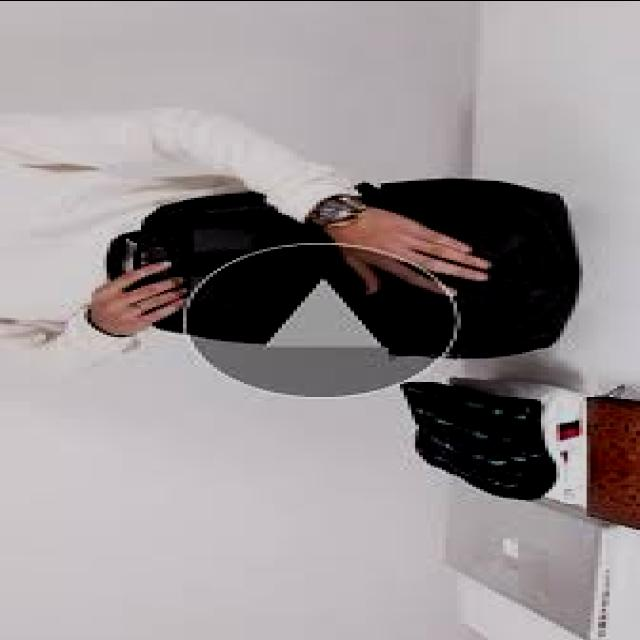backpack: (104, 179, 580, 361)
